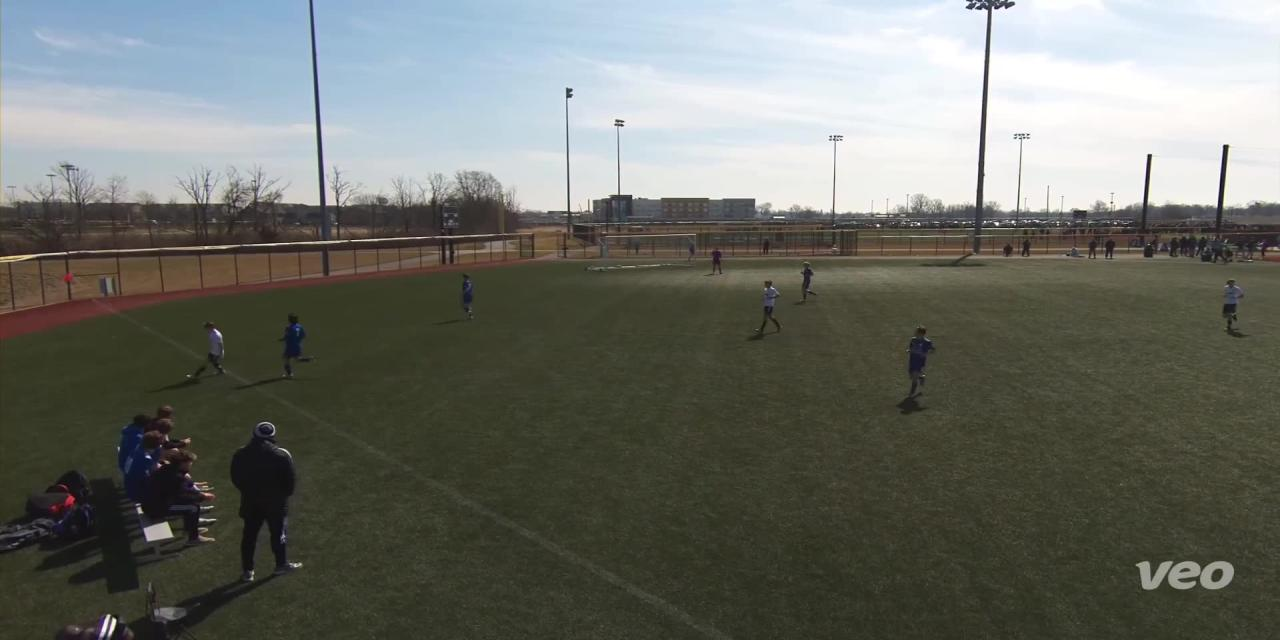goal: (581, 230, 715, 276)
sports ball: (179, 370, 198, 387)
